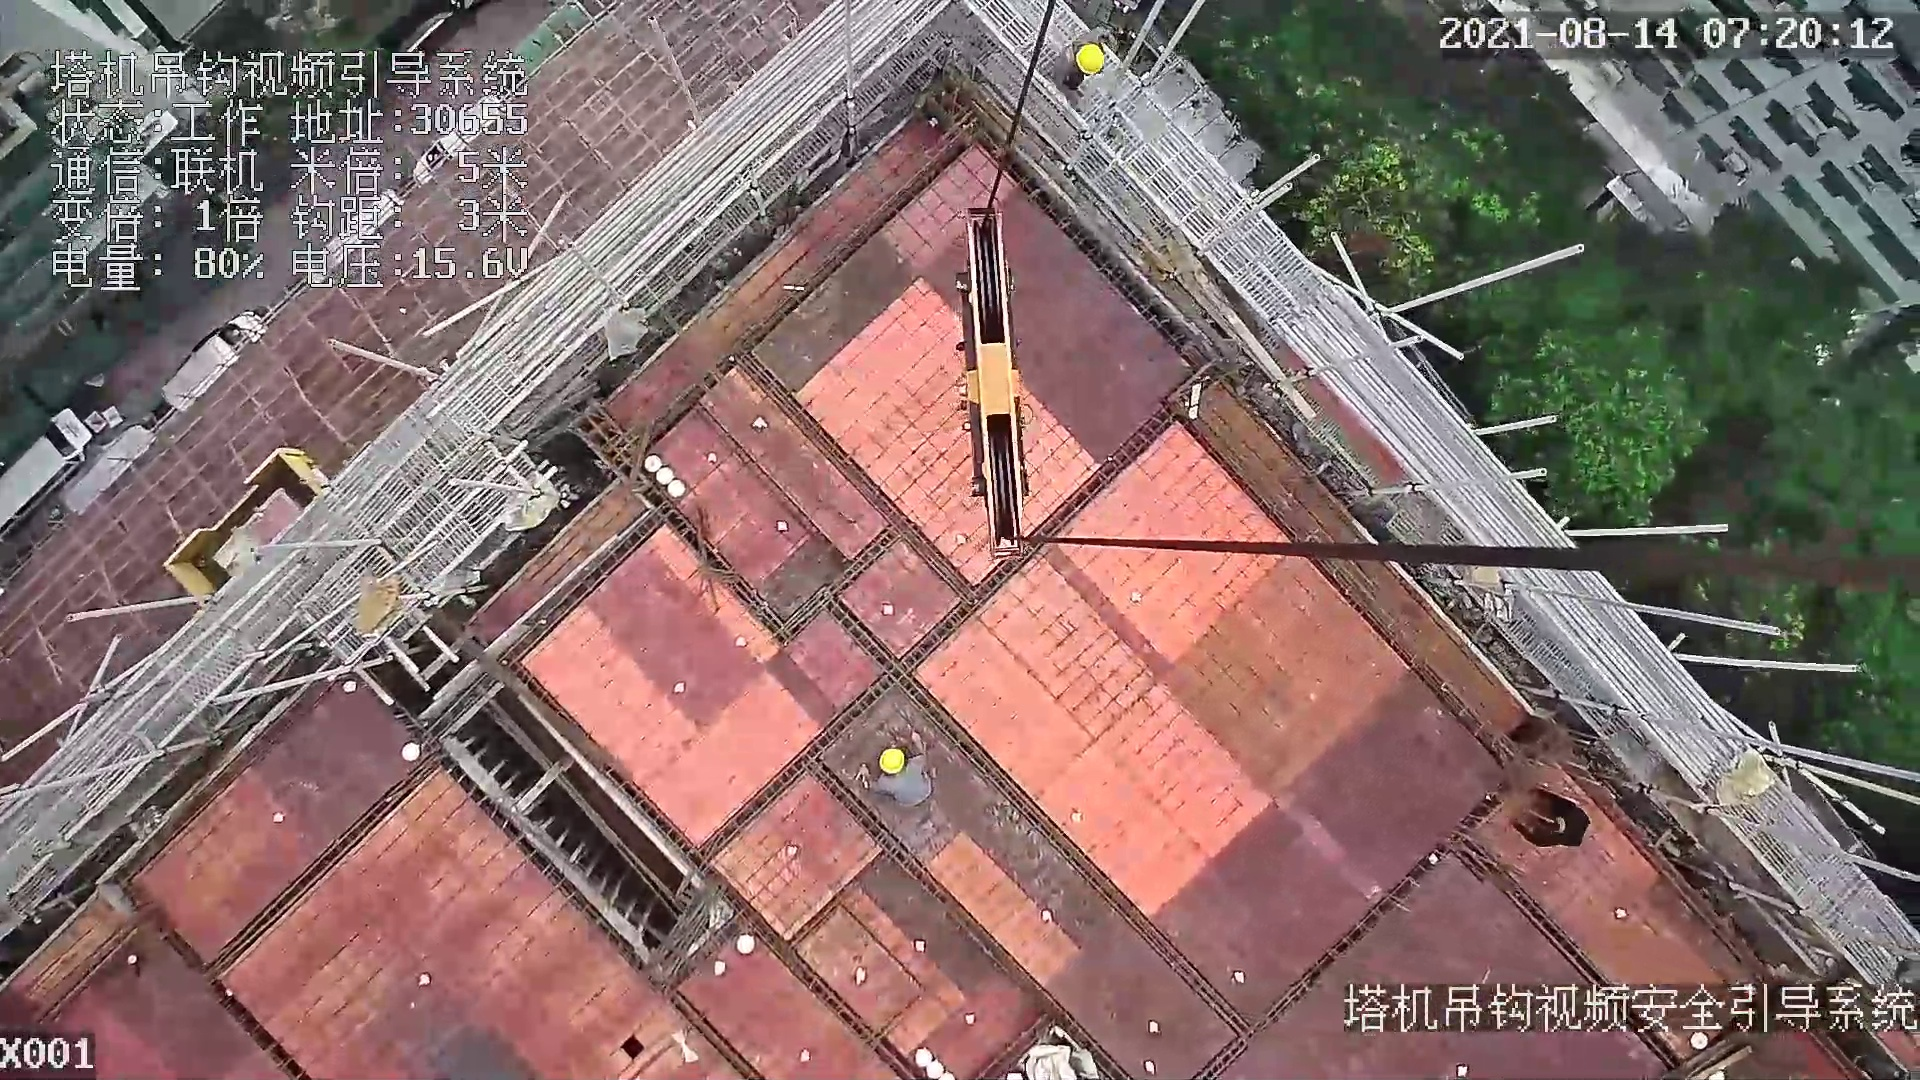helmet: (1071, 37, 1107, 82), (875, 743, 911, 776)
hook: (944, 197, 1046, 558)
person: (862, 726, 931, 812), (1055, 17, 1118, 104)
